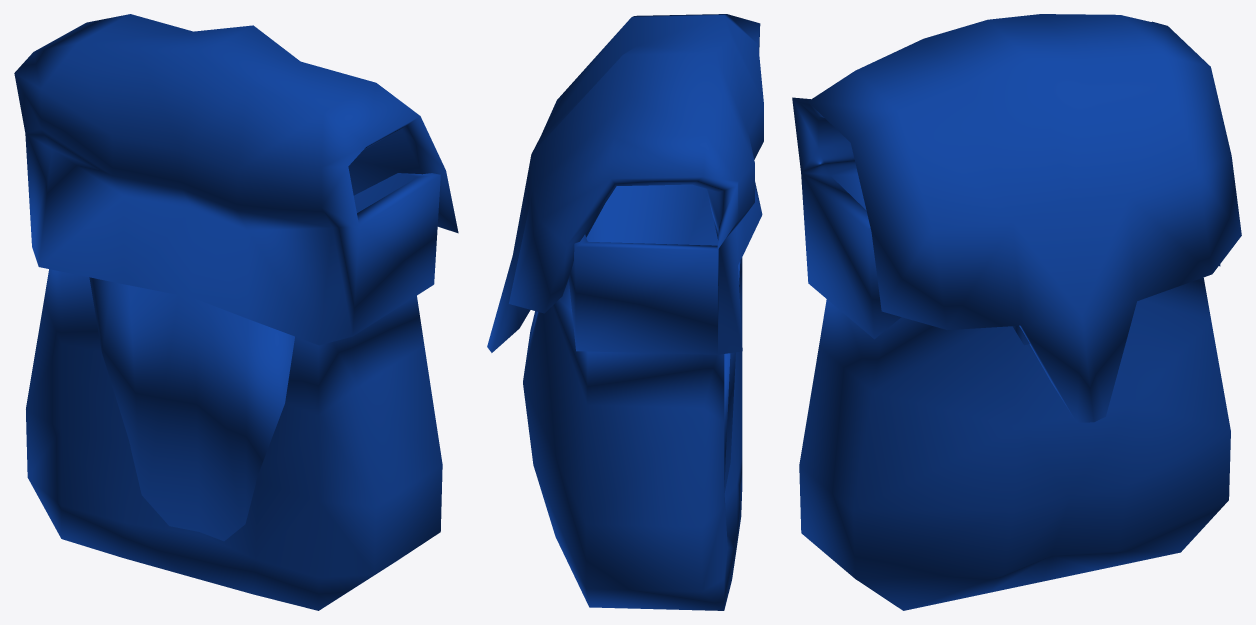
File: ornament2.obj
3 views of the same model, side by side, from view 1: azimuth 30°, elevation 25°; view 2: azimuth 150°, elevation 25°; view 3: azimuth 270°, elevation 25° (orthographic). The views are drawn at different scales.
Visible parts, largest first — view 1: Wizard_Plane.002; view 2: Wizard_Plane.002; view 3: Wizard_Plane.002.
Boxes of the visible parts, bbox=[...] form: Wizard_Plane.002: bbox=[14, 14, 458, 610]; Wizard_Plane.002: bbox=[487, 14, 763, 610]; Wizard_Plane.002: bbox=[792, 14, 1241, 610].
Bounding box in the file's own units: 0.1511 × 0.2313 × 0.1828.
